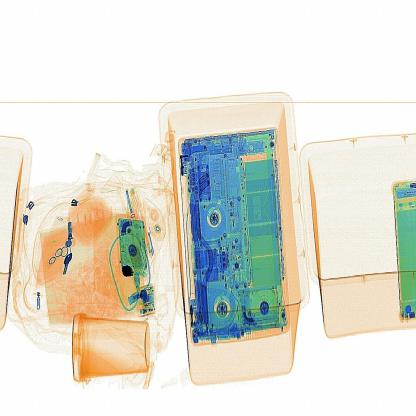scissors: (120, 258, 141, 286)
